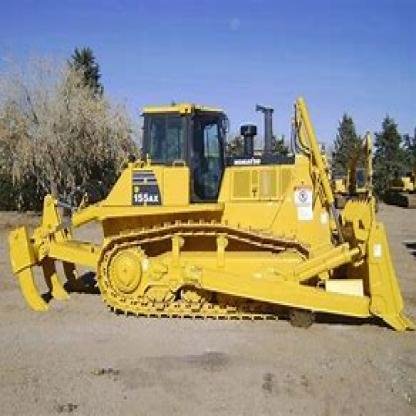bull_dozer/loader/grader: (6, 94, 414, 336)
